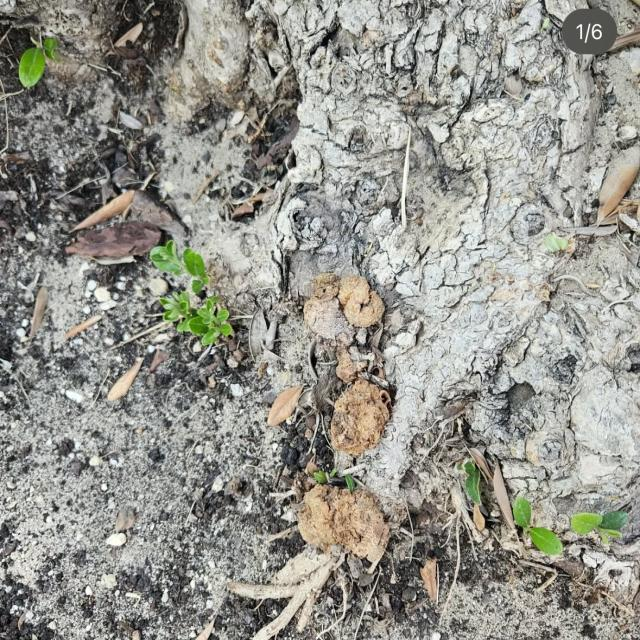Healthy: (150, 240, 232, 345), (513, 497, 562, 557), (19, 38, 57, 89)
Tuberculosis: (297, 484, 389, 564), (303, 273, 384, 344), (331, 378, 392, 456)
